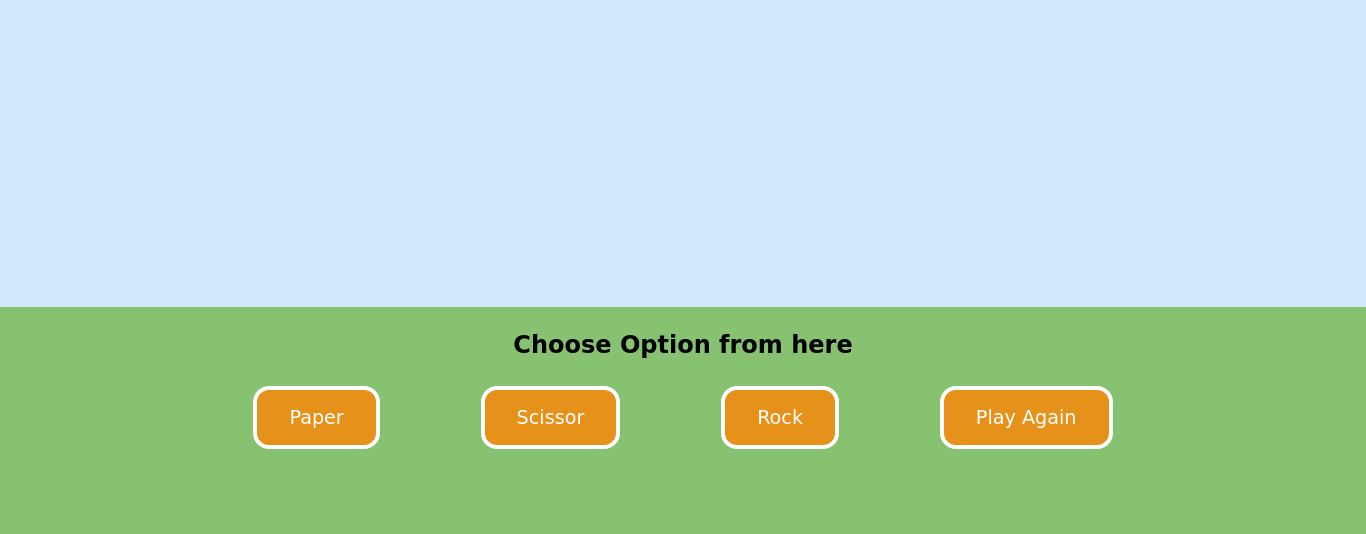
it: <ComputerVsComputer /> › should tie the game
Click the button with test id "test-paper_btn". click: {"x": 317, "y": 418}
box: [253,386,380,449]
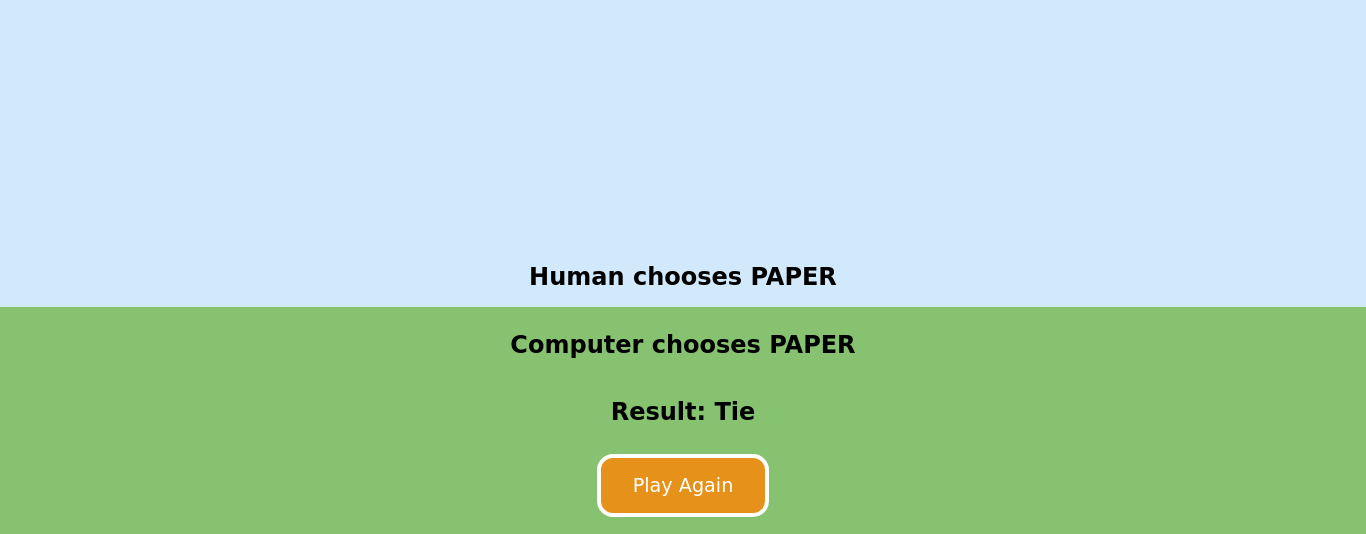
Expected: the heading with test id "game-result" reads "Result: Tie", [611,398,755,426]
